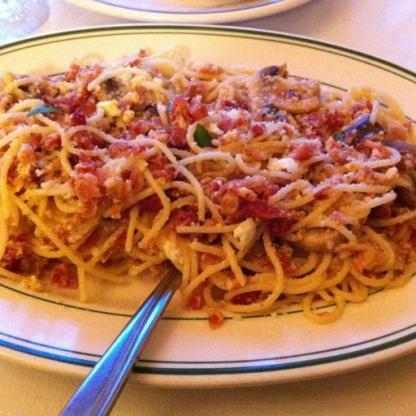pasta: (0, 56, 415, 319)
